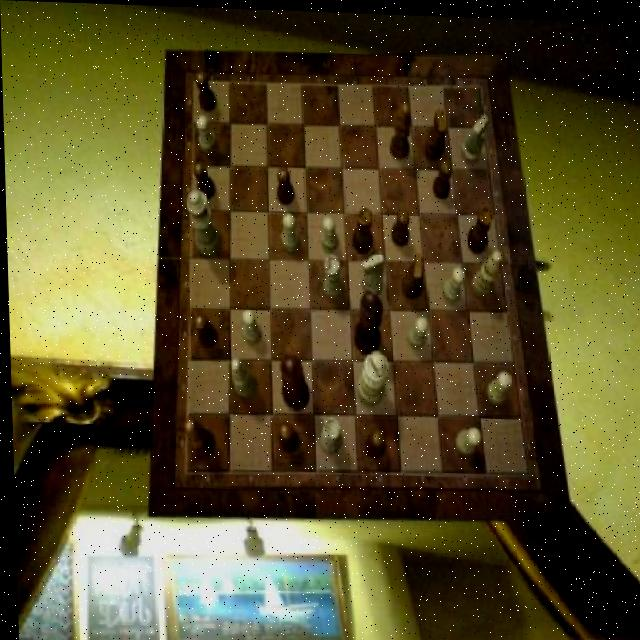bishop: (388, 99, 412, 157), (182, 417, 213, 457)
black-bishop: (351, 287, 382, 353)
black-king: (422, 106, 446, 157), (400, 250, 424, 297)
black-knight: (193, 161, 216, 199), (196, 70, 216, 111), (431, 157, 452, 196), (192, 313, 215, 348), (276, 165, 294, 203), (391, 207, 409, 243), (276, 420, 296, 451), (364, 428, 384, 456)
black-pawn: (279, 352, 309, 409)
black-queen: (466, 203, 494, 251), (351, 204, 373, 251)
black-rook: (470, 247, 502, 296), (228, 357, 254, 398)
white-bishop: (354, 349, 388, 406)
white-king: (460, 110, 488, 162), (361, 249, 384, 295)
white-knight: (440, 262, 464, 300), (485, 368, 510, 403), (197, 113, 217, 151), (404, 313, 427, 346), (453, 424, 479, 452), (239, 307, 259, 343), (280, 211, 298, 249), (320, 214, 338, 249)
white-pawn: (184, 188, 220, 255)
white-queen: (321, 252, 342, 299), (317, 415, 341, 452)
